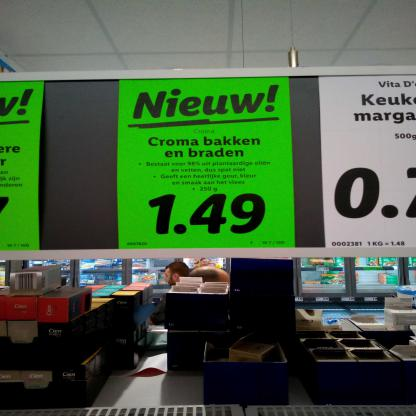prtg: (118, 78, 297, 251), (318, 76, 415, 249), (1, 82, 46, 251)
